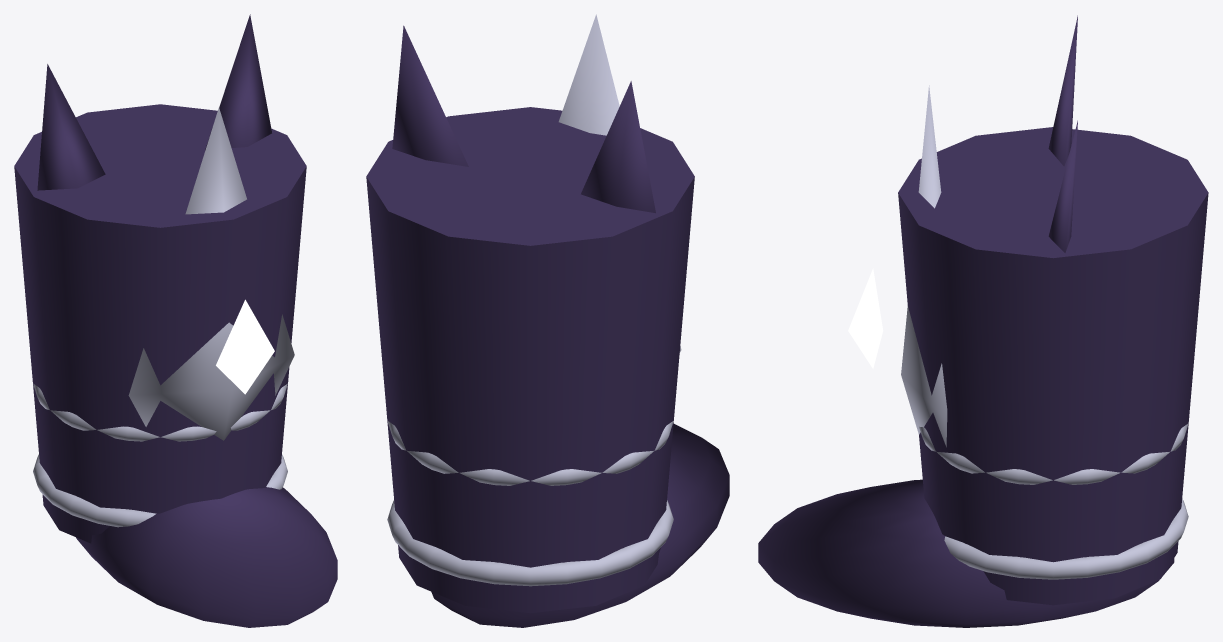
File: boss_eclipse_dancer_boots_1.glb
3 views of the same model, side by side, from view 1: azimuth 30°, elevation 25°; view 2: azimuth 150°, elevation 25°; view 3: azimuth 270°, elevation 25° (orthographic). The views are drawn at different scales.
Visible parts, largest first — view 1: Boss_eclipse_dancer_0, Boss_eclipse_dancer_1, Boss_eclipse_dancer_2; view 2: Boss_eclipse_dancer_0, Boss_eclipse_dancer_1; view 3: Boss_eclipse_dancer_0, Boss_eclipse_dancer_1, Boss_eclipse_dancer_2.
Boxes of the visible parts, <box> form: Boss_eclipse_dancer_0: <box>14,14,337,627</box>; Boss_eclipse_dancer_1: <box>33,108,294,527</box>; Boss_eclipse_dancer_2: <box>216,299,274,394</box>; Boss_eclipse_dancer_0: <box>366,25,729,627</box>; Boss_eclipse_dancer_1: <box>387,14,681,586</box>; Boss_eclipse_dancer_0: <box>758,15,1208,627</box>; Boss_eclipse_dancer_1: <box>901,85,1188,579</box>; Boss_eclipse_dancer_2: <box>848,268,883,368</box>.
Bounding box in the file's own units: 0.25 × 0.482 × 0.3624.
